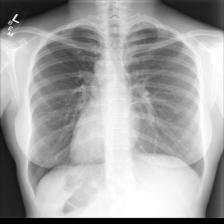normal: (22, 22, 207, 203)
